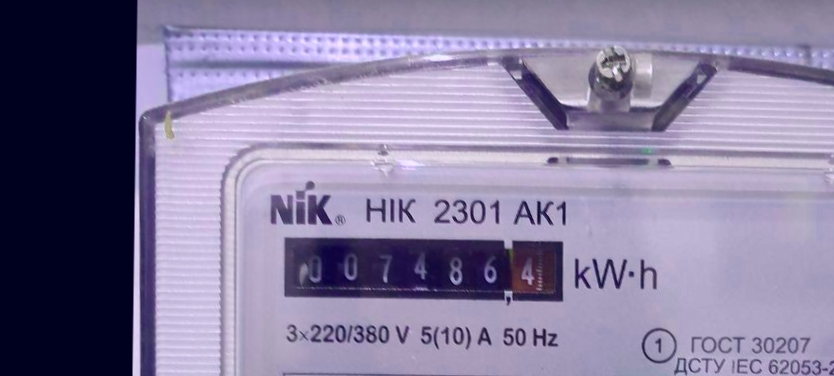0: (302, 252, 322, 286), (339, 250, 357, 283)
4: (408, 248, 426, 283), (516, 254, 533, 289)
6: (479, 254, 498, 286)
7: (371, 251, 394, 285)
8: (445, 254, 462, 290)
screen: (272, 226, 571, 314)
